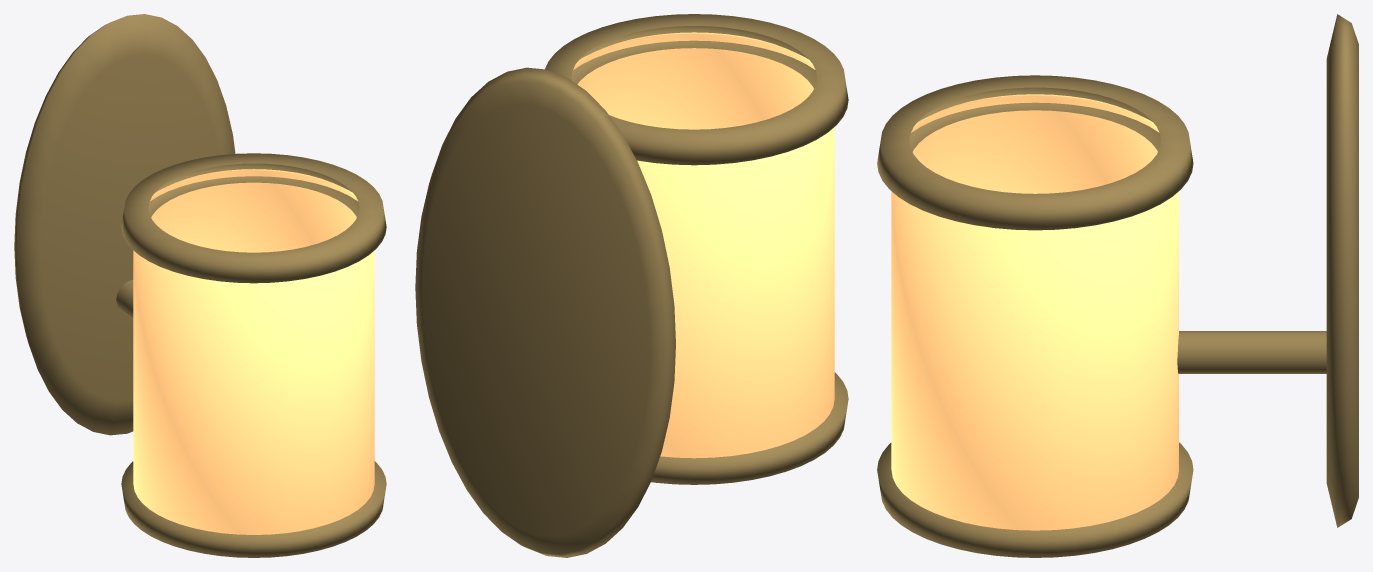
Rendered from sconce.glb.
3 renders of one model, left to right at view 1: azimuth 30°, elevation 25°; view 2: azimuth 150°, elevation 25°; view 3: azimuth 270°, elevation 25°, orthographic. The views are drawn at different scales.
Parts seen in each view (by area): view 1: shade, backplate, rim-high, rim-low, arm; view 2: backplate, shade, rim-high, rim-low; view 3: shade, rim-high, backplate, rim-low, arm.
Boxes of the visible parts, box(x1,y1,x2,y2) form: shade: box(133, 169, 374, 534); backplate: box(14, 14, 235, 435); rim-high: box(121, 153, 386, 283); rim-low: box(121, 461, 386, 557); arm: box(116, 280, 133, 319); backplate: box(415, 67, 675, 557); shade: box(573, 32, 834, 458); rim-high: box(545, 14, 848, 165); rim-low: box(651, 372, 848, 484); shade: box(891, 94, 1178, 530); rim-high: box(877, 75, 1193, 230); backplate: box(1326, 14, 1358, 527); rim-low: box(877, 442, 1193, 557); arm: box(1177, 331, 1326, 373).
Size of the model in its own units: 0.176 by 0.306 by 0.268.
